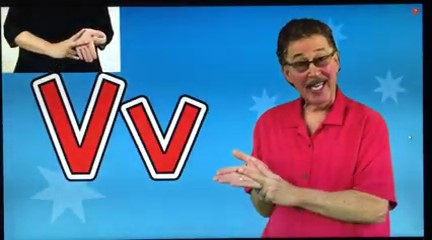V: (209, 145, 309, 207)
